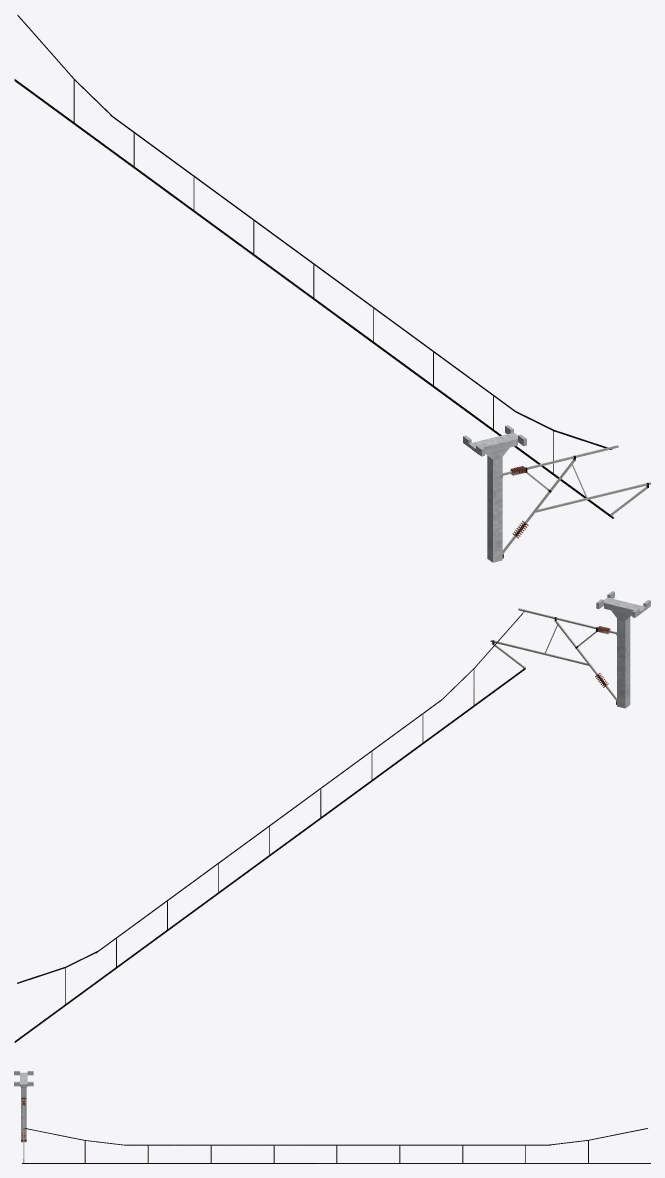
The model's file is catenary_side_back.obj.
3 views of the same model, one above another, from view 1: azimuth 30°, elevation 25°; view 2: azimuth 150°, elevation 25°; view 3: azimuth 270°, elevation 25° (orthographic). The views are drawn at different scales.
Visible parts, largest first — view 1: cube; view 2: cube; view 3: cube.
Part boxes in pixels (x1,y1,x2,y2): cube: (14,14,650,562); cube: (14,591,650,1042); cube: (14,1071,650,1163).
Size of the model in its own units: 3.44 by 2.25 by 20.25.
3 materials, 3 textured.
